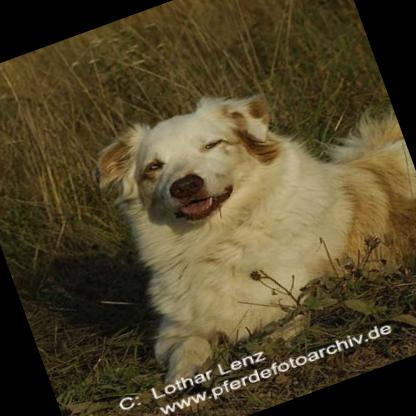kuvasz: (61, 40, 416, 404)
